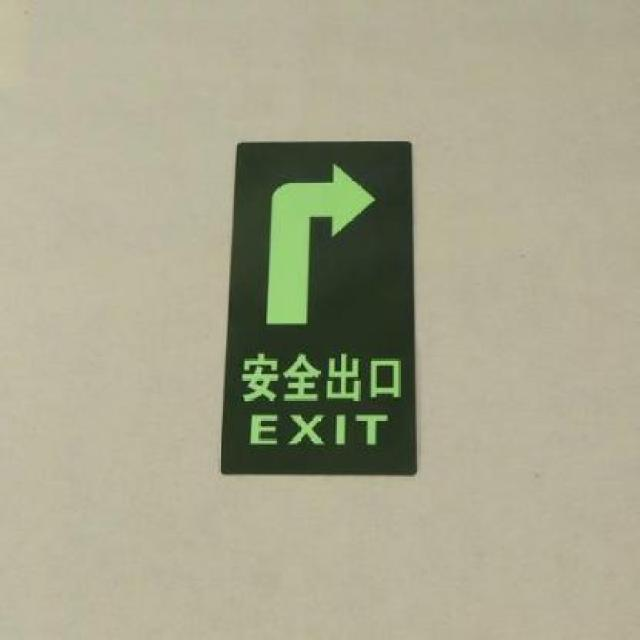exit_sign: (215, 125, 422, 488)
